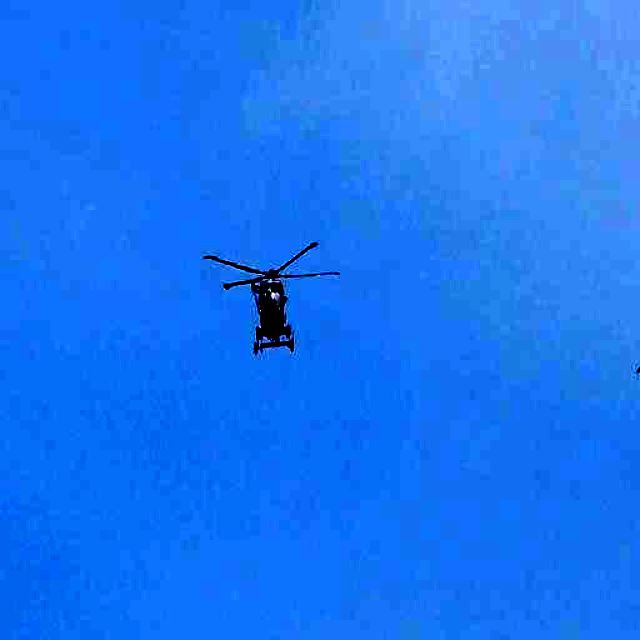drone: (210, 235, 344, 362)
